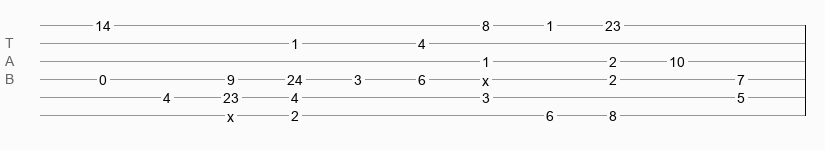0: (99, 72, 107, 82)
1: (291, 36, 299, 46), (482, 54, 490, 64), (546, 18, 554, 28)
10: (669, 54, 685, 64)
14: (95, 18, 111, 28)
2: (291, 108, 299, 118), (609, 72, 617, 82), (609, 54, 617, 64)
23: (223, 90, 239, 100), (605, 18, 621, 28)
24: (287, 72, 303, 82)
3: (354, 72, 362, 82), (482, 90, 490, 100)
4: (163, 90, 171, 100), (291, 90, 299, 100), (418, 36, 426, 46)
5: (737, 90, 745, 100)
6: (418, 72, 426, 82), (546, 108, 554, 118)
7: (737, 72, 745, 82)
8: (482, 18, 490, 28), (609, 108, 617, 118)
9: (227, 72, 235, 82)
x: (227, 109, 234, 117), (482, 73, 489, 81)
